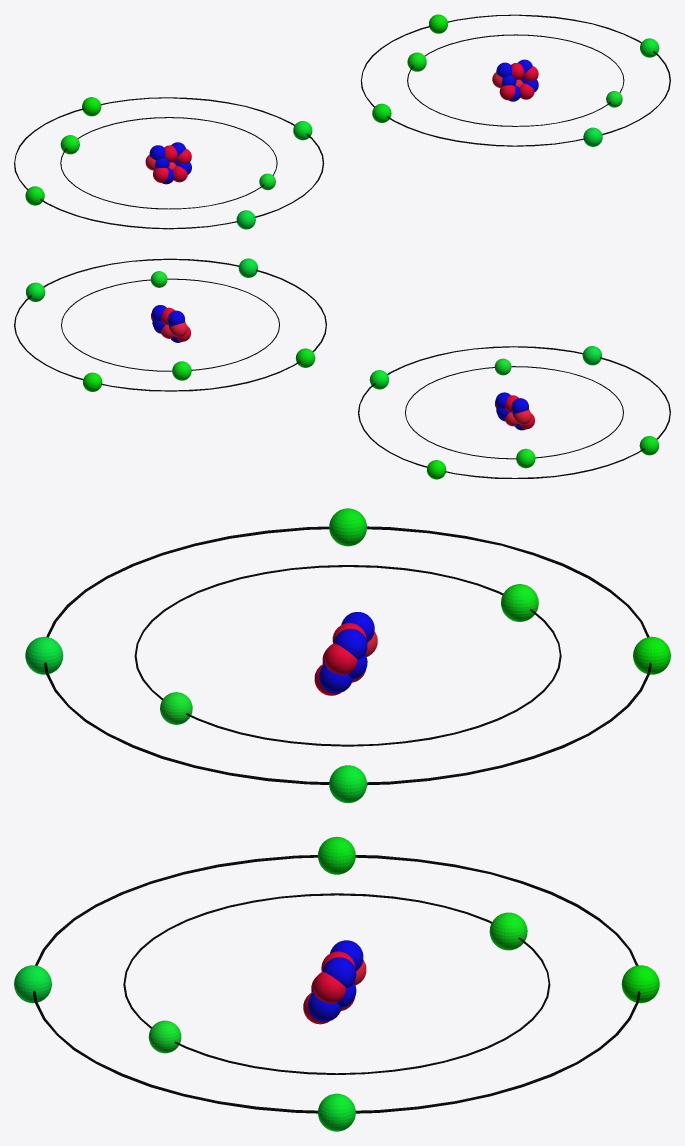
Rendered from atom_bond.glb.
3 views of the same model, one above another, from view 1: azimuth 30°, elevation 25°; view 2: azimuth 150°, elevation 25°; view 3: azimuth 270°, elevation 25° (orthographic). The views are drawn at different scales.
Visible parts, largest first — view 1: Sphere.006, Sphere.001, BézierCircle.001, BézierCircle.003, BézierCircle, BézierCircle.002; view 2: BézierCircle.001, BézierCircle.003, Sphere.006, Sphere.001, BézierCircle, BézierCircle.002; view 3: BézierCircle.001, BézierCircle.003, Sphere.006, Sphere.001, BézierCircle, BézierCircle.002, Sphere.014, Sphere.017, Sphere.004, Sphere.008, Sphere.003, Sphere.013 (+4 smaller).
Part boxes in pixels (x1,y1,x2,y2): Sphere.006: [145, 142, 191, 184]; Sphere.001: [492, 59, 538, 101]; BézierCircle.001: [14, 97, 324, 229]; BézierCircle.003: [361, 14, 670, 146]; BézierCircle: [60, 117, 277, 209]; BézierCircle.002: [407, 34, 624, 126]; BézierCircle.001: [358, 346, 670, 478]; BézierCircle.003: [14, 258, 326, 391]; Sphere.006: [495, 392, 534, 430]; Sphere.001: [151, 305, 190, 342]; BézierCircle: [405, 366, 623, 459]; BézierCircle.002: [61, 278, 279, 371]; BézierCircle.001: [44, 526, 651, 785]; BézierCircle.003: [33, 855, 640, 1113]; Sphere.006: [314, 612, 377, 695]; Sphere.001: [303, 940, 366, 1024]; BézierCircle: [134, 565, 561, 746]; BézierCircle.002: [123, 893, 550, 1074]; Sphere.014: [329, 765, 366, 803]; Sphere.017: [329, 508, 366, 546]; Sphere.004: [318, 1093, 355, 1131]; Sphere.008: [318, 836, 355, 874]; Sphere.003: [489, 912, 527, 950]; Sphere.013: [501, 584, 538, 621].
Bounding box in the file's own units: 16.69 × 0.9008 × 7.68.
Materials: 1 (1 with a texture image).
